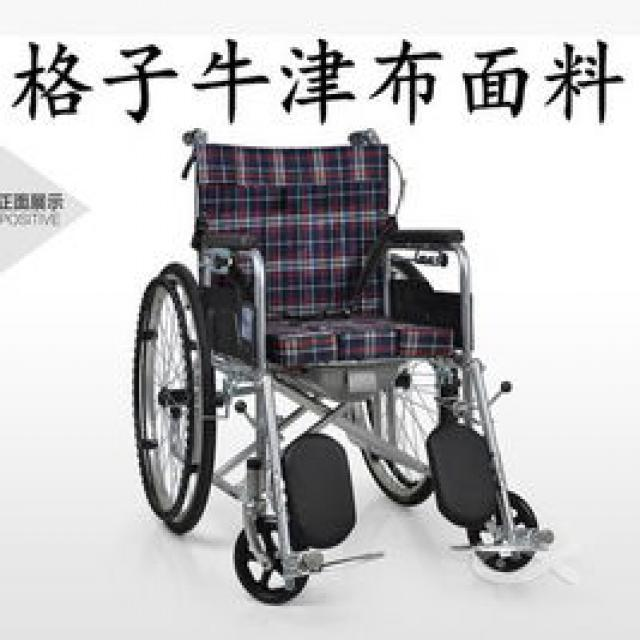wheelchair: (103, 120, 592, 609)
